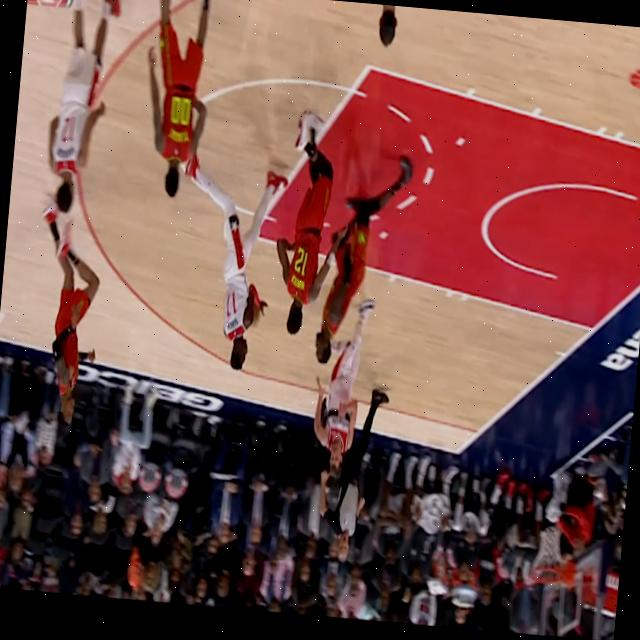no foul: (182, 70, 432, 424)
